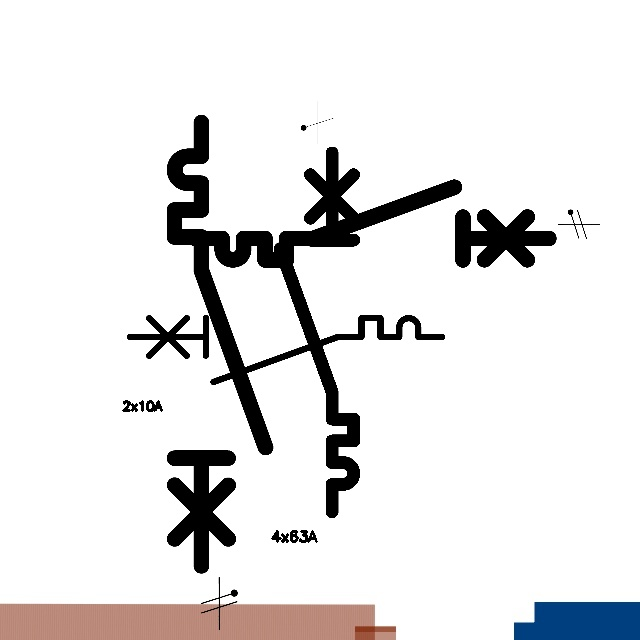interruptor_termomagnetico: (163, 111, 277, 577), (271, 143, 363, 520), (186, 178, 557, 269), (122, 310, 450, 390)
